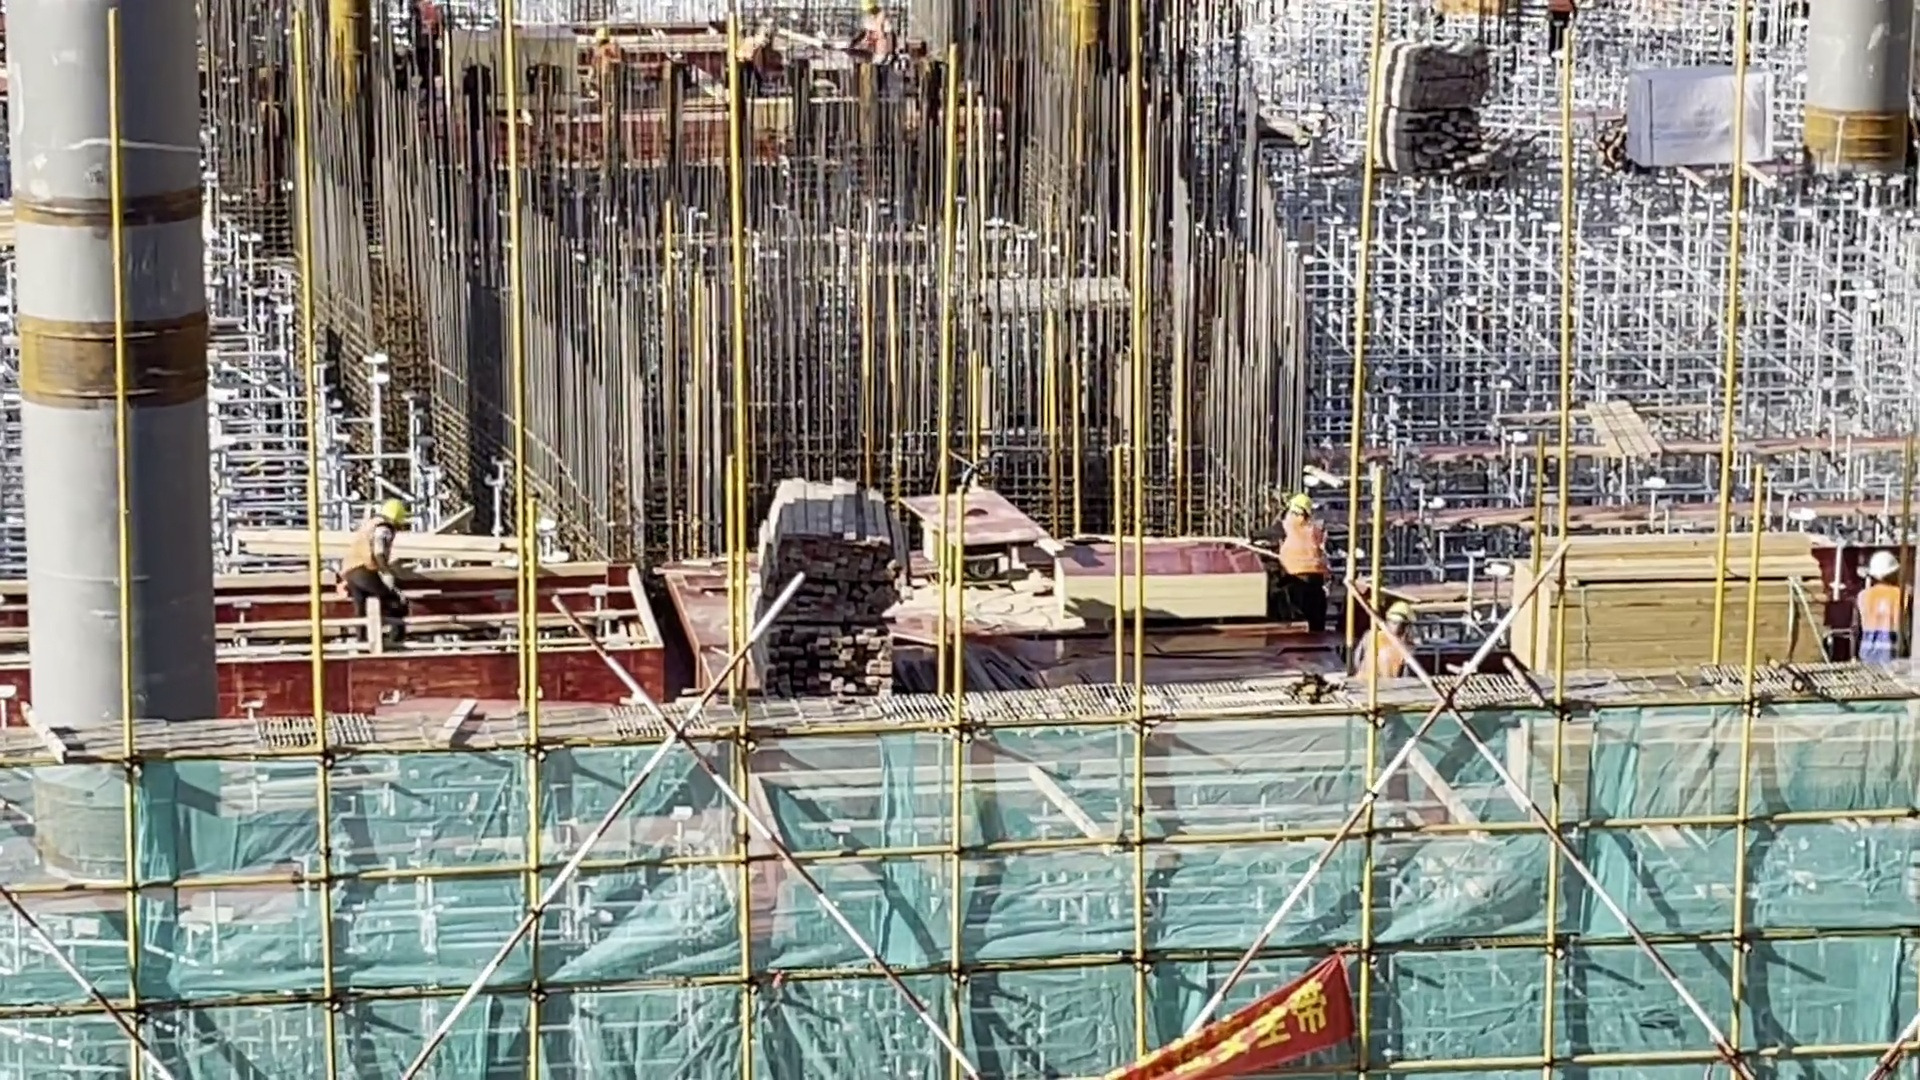helmet: (1864, 543, 1904, 587), (375, 493, 414, 531), (1381, 587, 1414, 627), (1285, 487, 1318, 523)
person: (328, 482, 428, 656), (1266, 478, 1341, 642), (1354, 586, 1425, 698), (1858, 548, 1914, 683)
vest: (1275, 516, 1336, 582), (1860, 589, 1914, 663), (340, 506, 396, 578), (1356, 628, 1415, 679)
